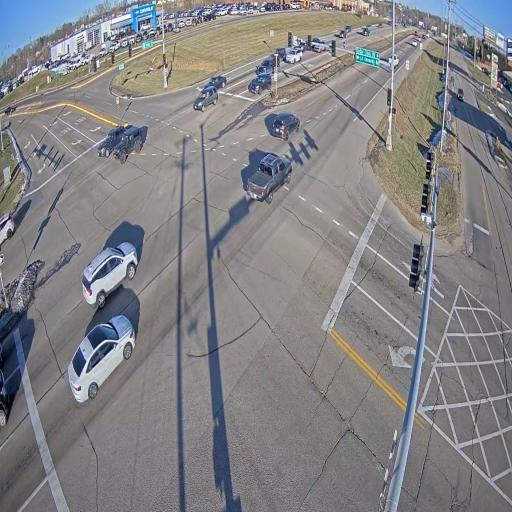pickup: (246, 154, 292, 204), (393, 54, 399, 66), (362, 28, 369, 36), (388, 56, 391, 64)
sedan: (67, 315, 136, 402), (203, 75, 227, 90), (5, 106, 16, 115), (457, 88, 464, 101)
suv: (82, 241, 138, 309), (114, 126, 142, 163), (98, 126, 125, 157), (272, 112, 300, 140), (193, 86, 218, 112), (248, 73, 272, 94), (256, 56, 274, 74), (274, 47, 286, 64), (339, 29, 346, 38), (345, 25, 352, 33), (412, 40, 417, 46)
van: (286, 47, 302, 63)
